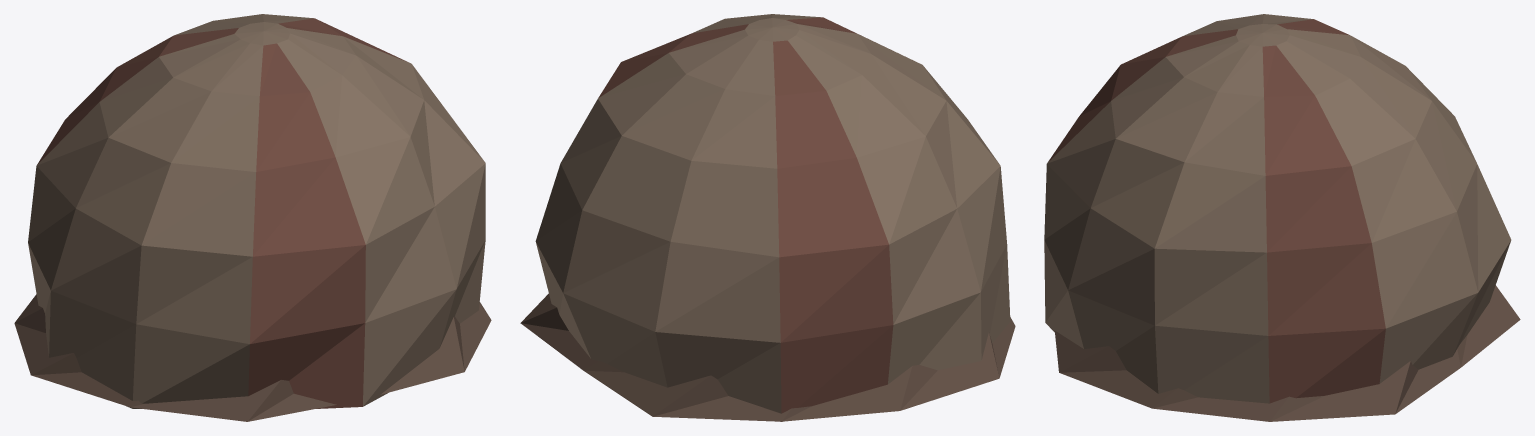
File: cocoon_megaspider_1.obj
3 renders of one model, left to right at view 1: azimuth 30°, elevation 25°; view 2: azimuth 150°, elevation 25°; view 3: azimuth 270°, elevation 25°, orthographic.
Parts seen in each view (by area): view 1: cocoon_megaspider_1; view 2: cocoon_megaspider_1; view 3: cocoon_megaspider_1.
Boxes of the visible parts, x1,y1,x2,y2 form: cocoon_megaspider_1: (14,14,491,421); cocoon_megaspider_1: (520,14,1015,421); cocoon_megaspider_1: (1044,14,1520,421).
Bounding box in the file's own units: 1.38 × 0.9 × 1.32.
